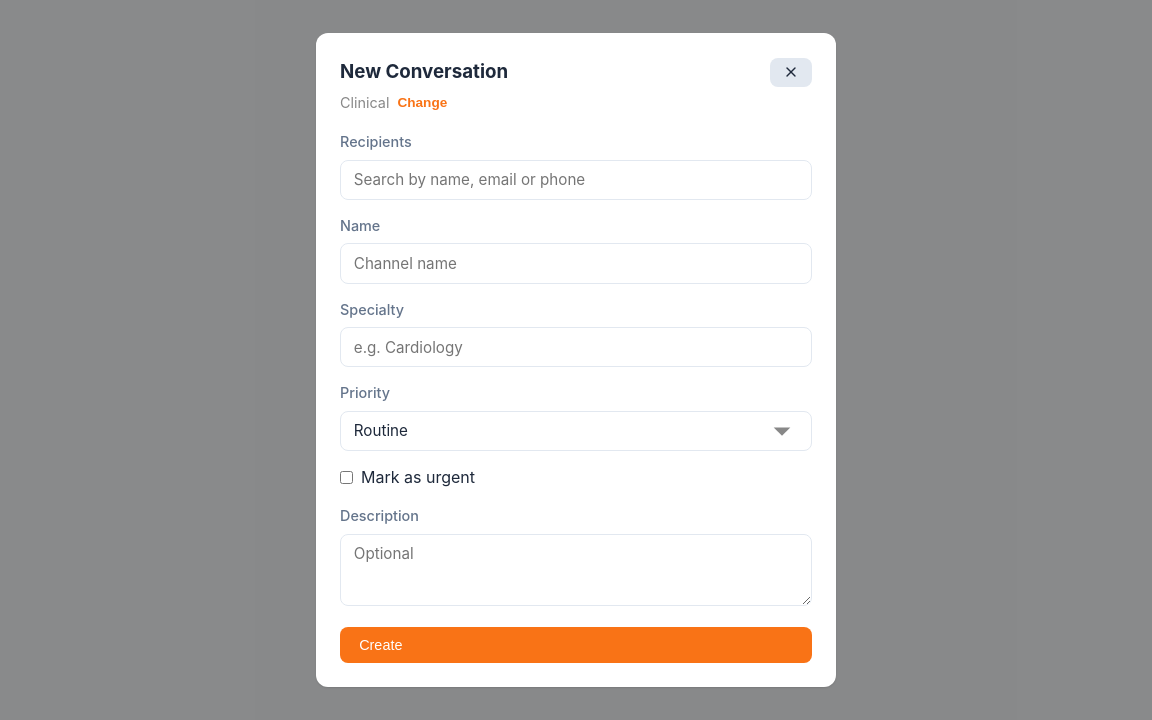
it: new conversation form › hides the type dropdown when the tab already chose the type
Expected: the text "Clinical" is shown, top-left (340, 91), bottom-right (389, 114)
Expected: the text "Type" is not shown
Click the button "Change".
click(422, 103)  # box top-left (397, 95), bottom-right (447, 110)
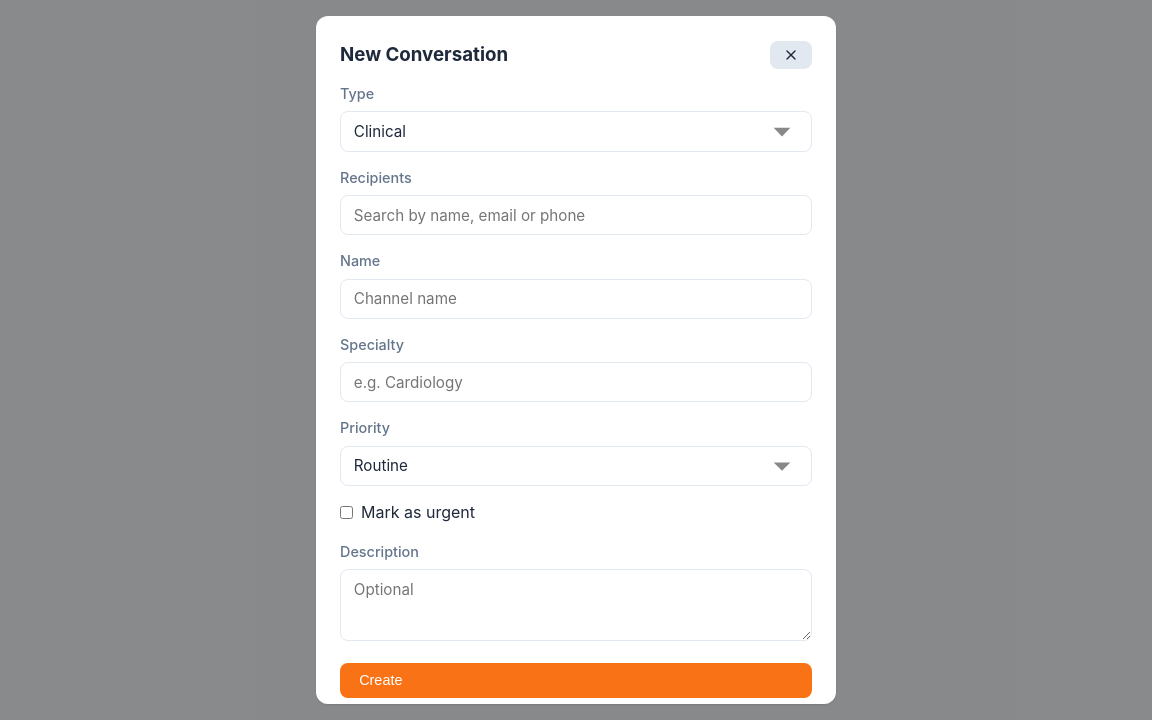
Expected: the text "Type" is shown, top-left (340, 85), bottom-right (374, 102)
